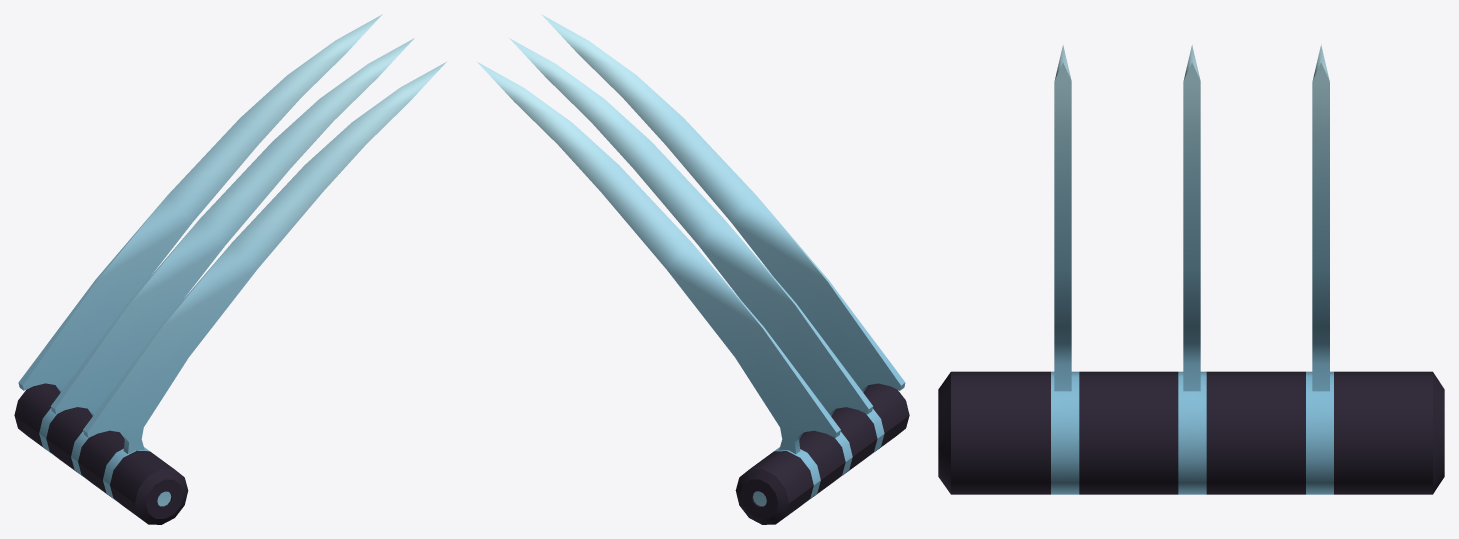
Rendered from Claws.FBX.
3 views of the same model, side by side, from view 1: azimuth 30°, elevation 25°; view 2: azimuth 150°, elevation 25°; view 3: azimuth 270°, elevation 25° (orthographic). The views are drawn at different scales.
Parts seen in each view (by area): view 1: Claws; view 2: Claws; view 3: Claws.
Part boxes in pixels (x1,y1,x2,y2): Claws: [14, 14, 446, 524]; Claws: [477, 14, 909, 524]; Claws: [938, 44, 1444, 494].
Size of the model in its own units: 24.06 by 23.25 by 14.56.
